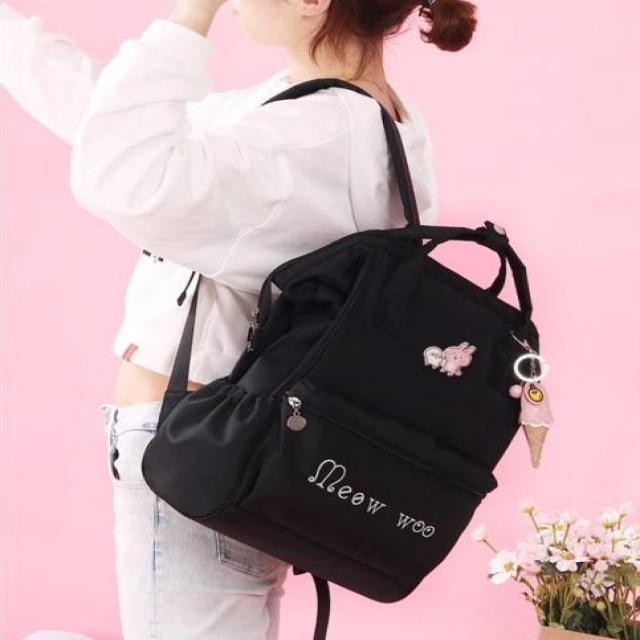handbag: (136, 215, 555, 607)
